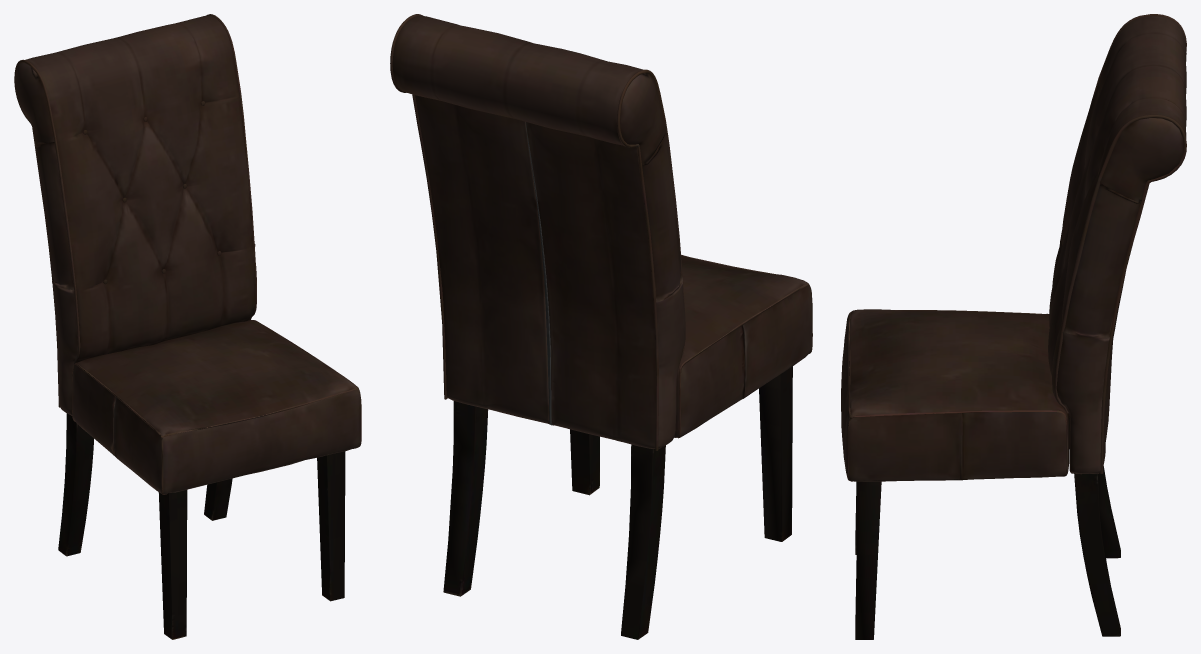
The model's file is dining_chair_02.glb.
3 views of the same model, side by side, from view 1: azimuth 30°, elevation 25°; view 2: azimuth 150°, elevation 25°; view 3: azimuth 270°, elevation 25° (orthographic). The views are drawn at different scales.
Visible parts, largest first — view 1: dining_chair_02; view 2: dining_chair_02; view 3: dining_chair_02.
Part boxes in pixels (left/top/right/bottom): dining_chair_02: left=14, top=14, right=361, bottom=639; dining_chair_02: left=390, top=14, right=812, bottom=639; dining_chair_02: left=841, top=14, right=1186, bottom=639.
Size of the model in its own units: 0.4336 by 0.9733 by 0.5764.
1 material, 1 textured.
